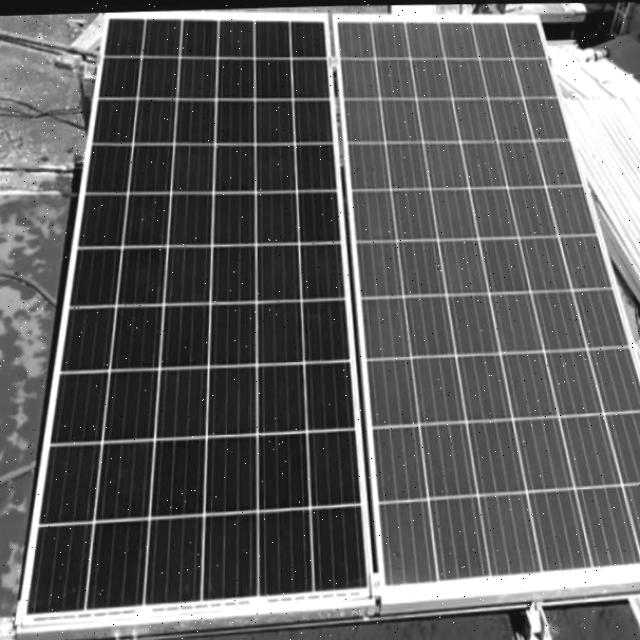Normal Solar Panel: (11, 4, 378, 622)
